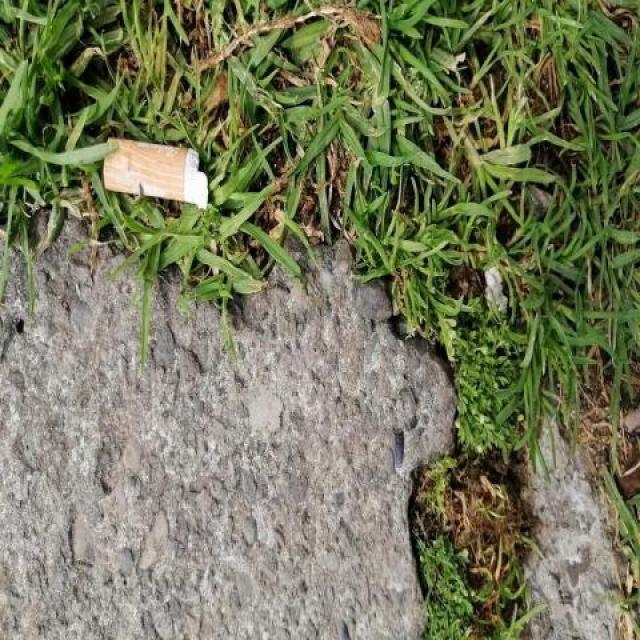non-organic waste: (99, 132, 210, 215)
